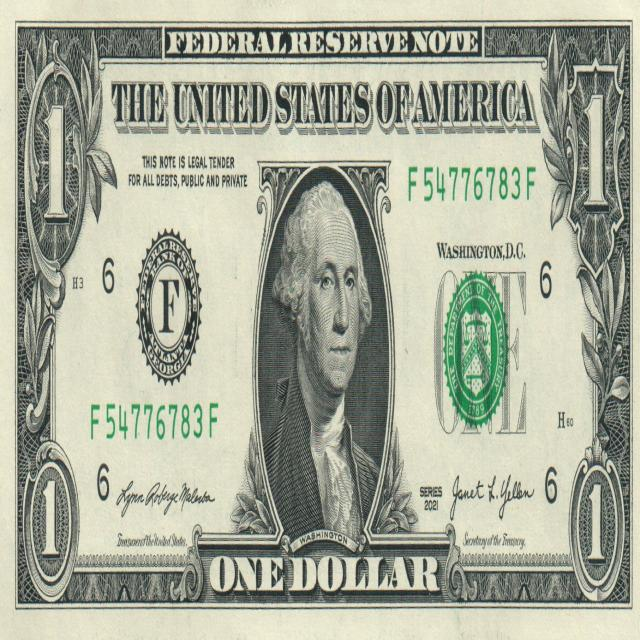SerialNumber: (91, 403, 218, 440), (409, 167, 535, 202)
